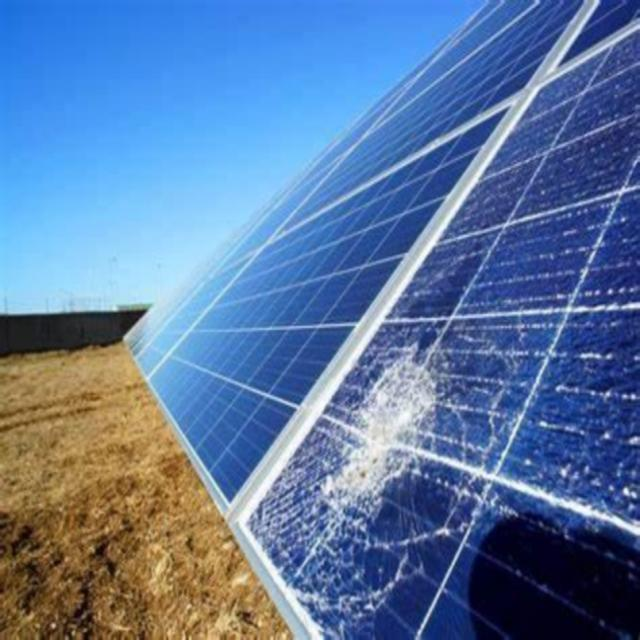cracked: (250, 45, 640, 640)
